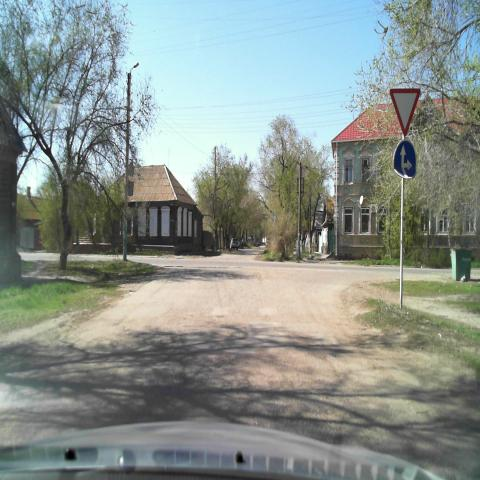4_1_4: (392, 136, 419, 181)
